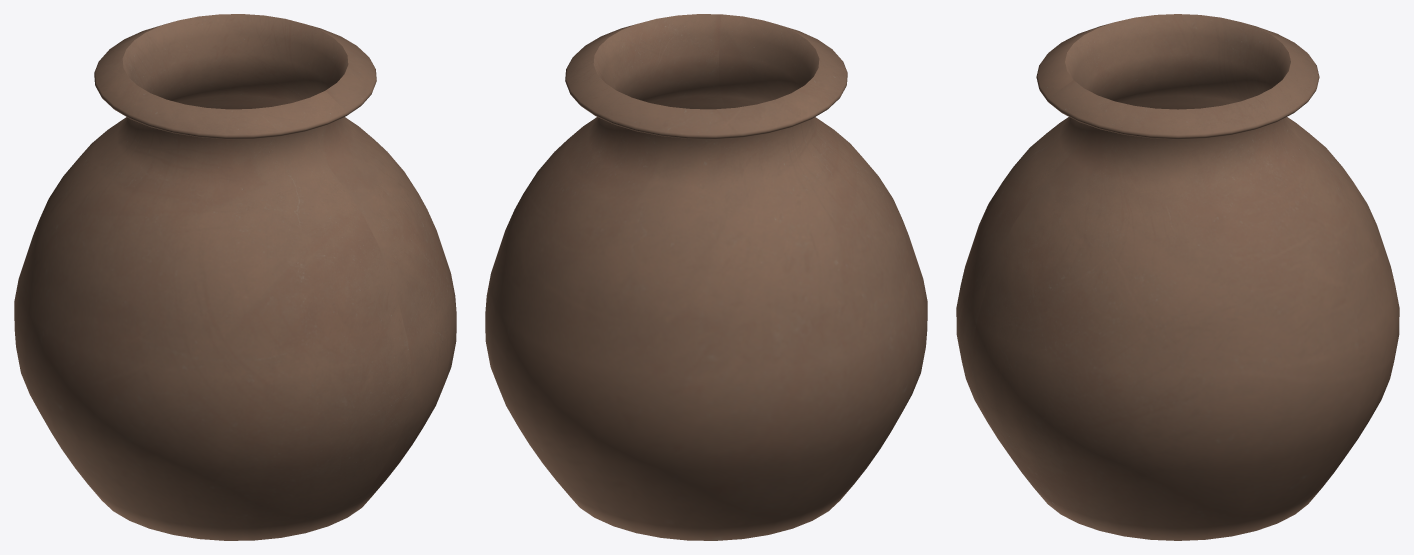
The model's file is Pots_5.fbx.
3 renders of one model, left to right at view 1: azimuth 30°, elevation 25°; view 2: azimuth 150°, elevation 25°; view 3: azimuth 270°, elevation 25°, orthographic.
Visible parts, largest first — view 1: Circle; view 2: Circle; view 3: Circle.
Boxes of the visible parts, x1,y1,x2,y2 form: Circle: [14, 14, 456, 540]; Circle: [485, 14, 927, 540]; Circle: [956, 14, 1399, 540].
Size of the model in its own units: 155 by 162 by 155.
